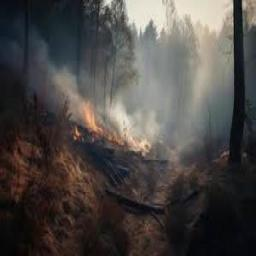Heavy smoke: (0, 0, 235, 172)
Small fire: (23, 68, 158, 157)
